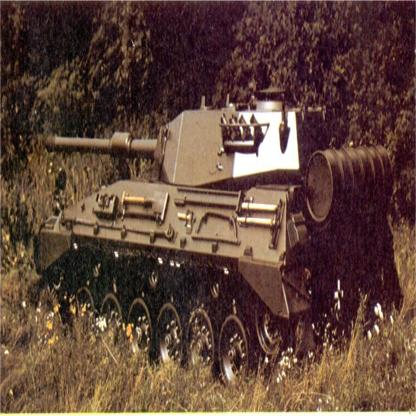Tank: (24, 90, 412, 378)
